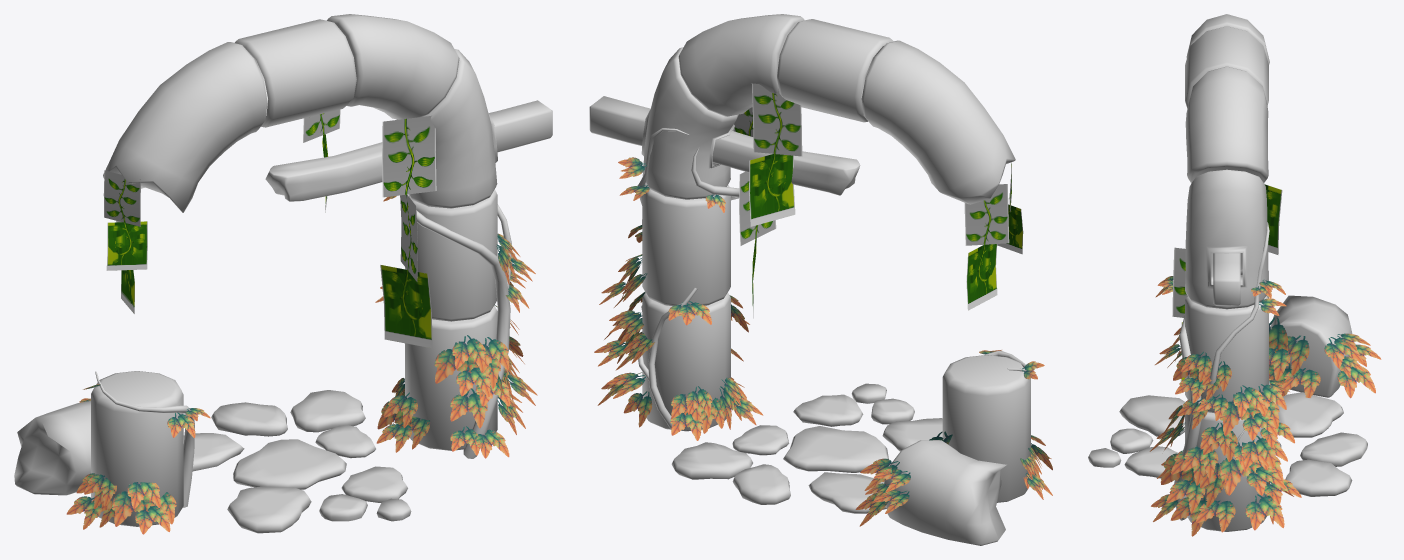
Rendered from SM_ArchMesh.fbx.
The picture shows the model from 3 angles, left to right: view 1: azimuth 30°, elevation 25°; view 2: azimuth 150°, elevation 25°; view 3: azimuth 270°, elevation 25°; orthographic projection. The views are drawn at different scales.
Parts seen in each view (by area): view 1: ArchMesh; view 2: ArchMesh; view 3: ArchMesh.
Boxes of the visible parts, bbox=[...] form: ArchMesh: bbox=[14, 14, 552, 534]; ArchMesh: bbox=[589, 14, 1052, 545]; ArchMesh: bbox=[1088, 14, 1381, 536].
Bounding box in the file's own units: 934 × 836 × 557.
